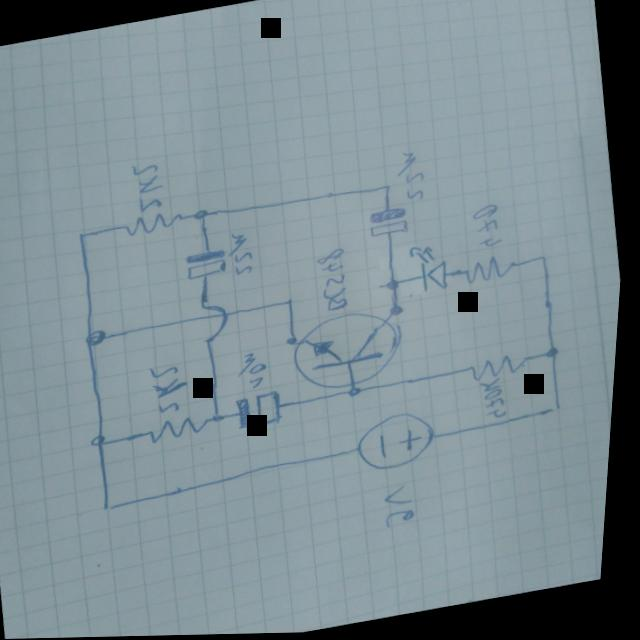capacitor: (237, 390, 290, 433), (184, 248, 234, 284), (367, 207, 414, 242)
crossover: (196, 298, 240, 347)
diode: (406, 243, 456, 299)
junction: (87, 329, 113, 349), (91, 433, 115, 452), (191, 207, 213, 226), (390, 304, 411, 322), (386, 278, 407, 296), (103, 501, 124, 517), (76, 228, 96, 244), (283, 295, 303, 311), (213, 413, 233, 428), (378, 183, 398, 198), (547, 348, 566, 363), (349, 387, 369, 401), (286, 336, 305, 350), (552, 405, 569, 419), (539, 255, 553, 267)
resistor: (145, 413, 218, 448), (469, 353, 540, 386), (121, 209, 191, 240), (463, 254, 524, 289)
source: (355, 409, 449, 478)
text: (149, 362, 199, 419), (315, 249, 357, 316), (392, 149, 432, 207), (131, 162, 171, 215), (226, 229, 263, 280), (471, 204, 509, 253), (386, 486, 425, 532), (480, 378, 516, 425), (237, 351, 276, 394)
transistor: (289, 306, 414, 399)
